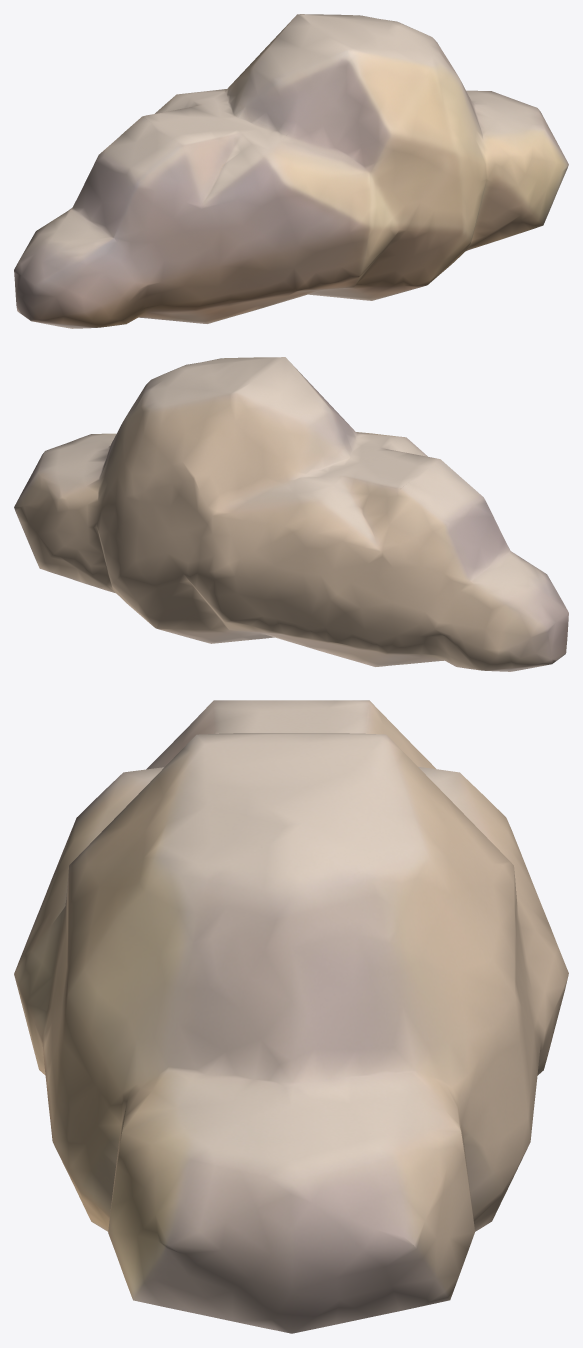
Rendered from Meshy_AI_cloud_0314083915_texture.fbx.
The picture shows the model from 3 angles, top to bottom: view 1: azimuth 30°, elevation 25°; view 2: azimuth 150°, elevation 25°; view 3: azimuth 270°, elevation 25°; orthographic projection. The views are drawn at different scales.
Parts seen in each view (by area): view 1: Mesh1.0; view 2: Mesh1.0; view 3: Mesh1.0.
Part boxes in pixels (x1,y1,x2,y2): Mesh1.0: (14, 14, 568, 328); Mesh1.0: (14, 357, 568, 671); Mesh1.0: (14, 700, 568, 1333).
Bounding box in the file's own units: 191 × 93.26 × 91.24.
1 material, 1 textured.
